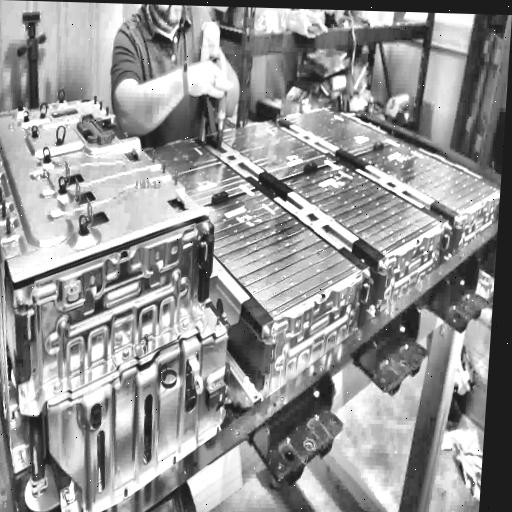battery_module: (183, 189, 362, 317), (280, 160, 441, 259), (358, 141, 500, 214), (138, 139, 256, 213), (215, 120, 337, 181), (283, 109, 398, 158)
